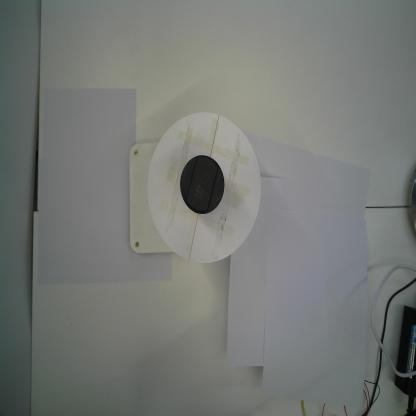Canned Food: (179, 153, 225, 215)
